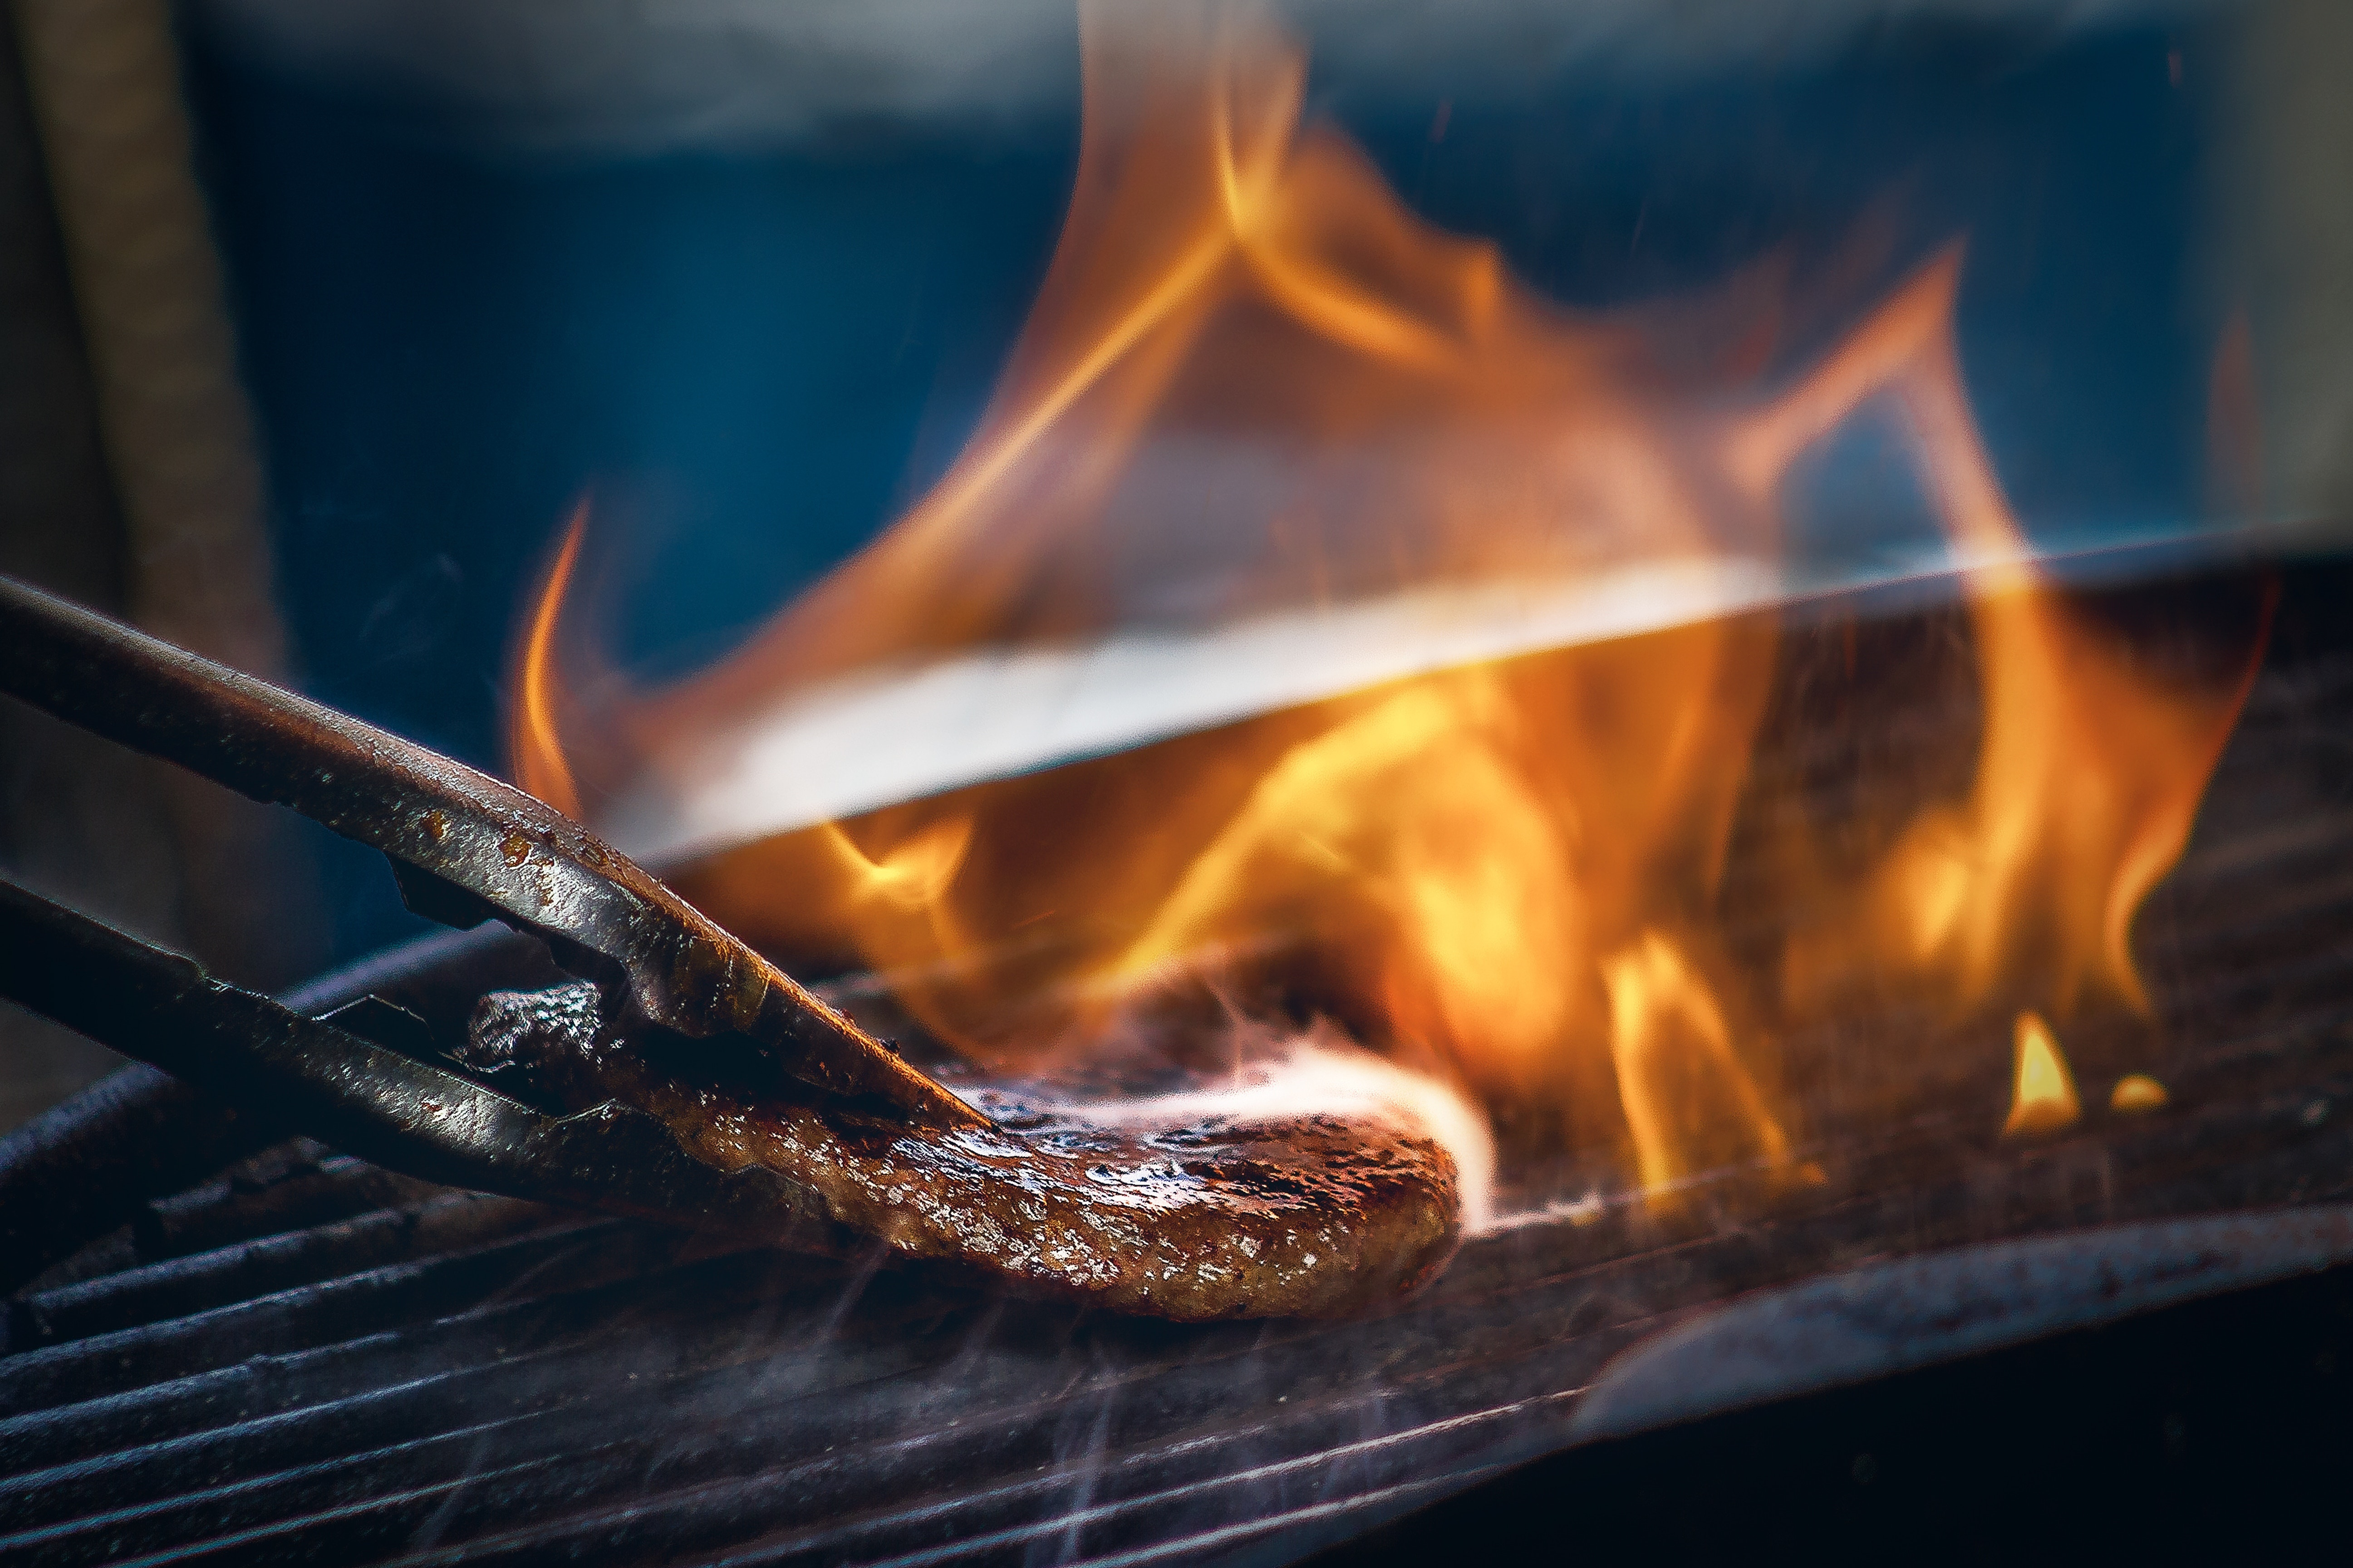fire: (513, 0, 2238, 1286)
